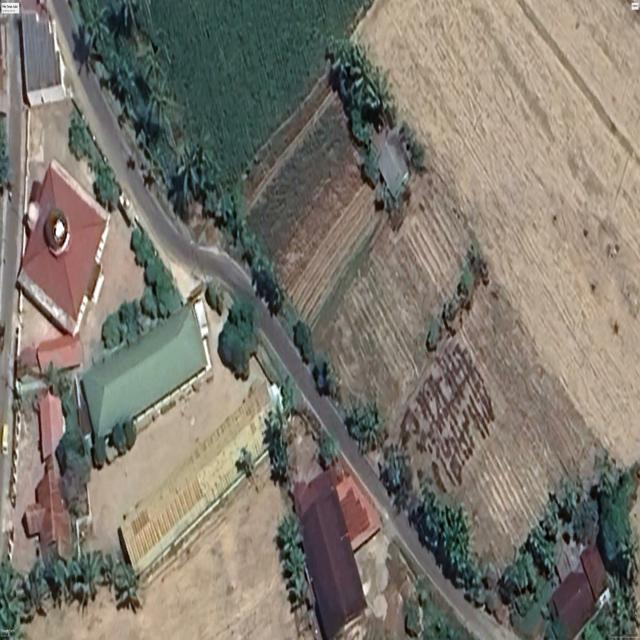Home: (294, 467, 380, 640), (548, 545, 608, 640), (25, 456, 71, 556), (19, 10, 66, 107), (378, 130, 408, 197), (38, 392, 65, 462)
mosque: (17, 159, 110, 336)
